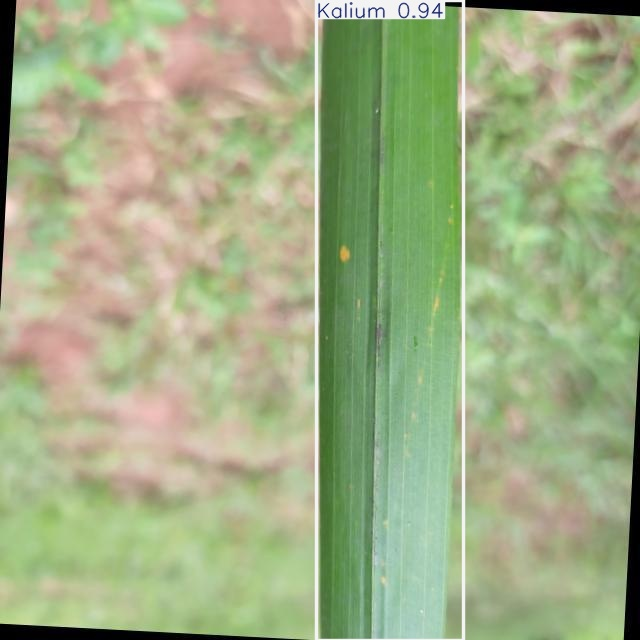Kalium: (316, 0, 464, 640)
